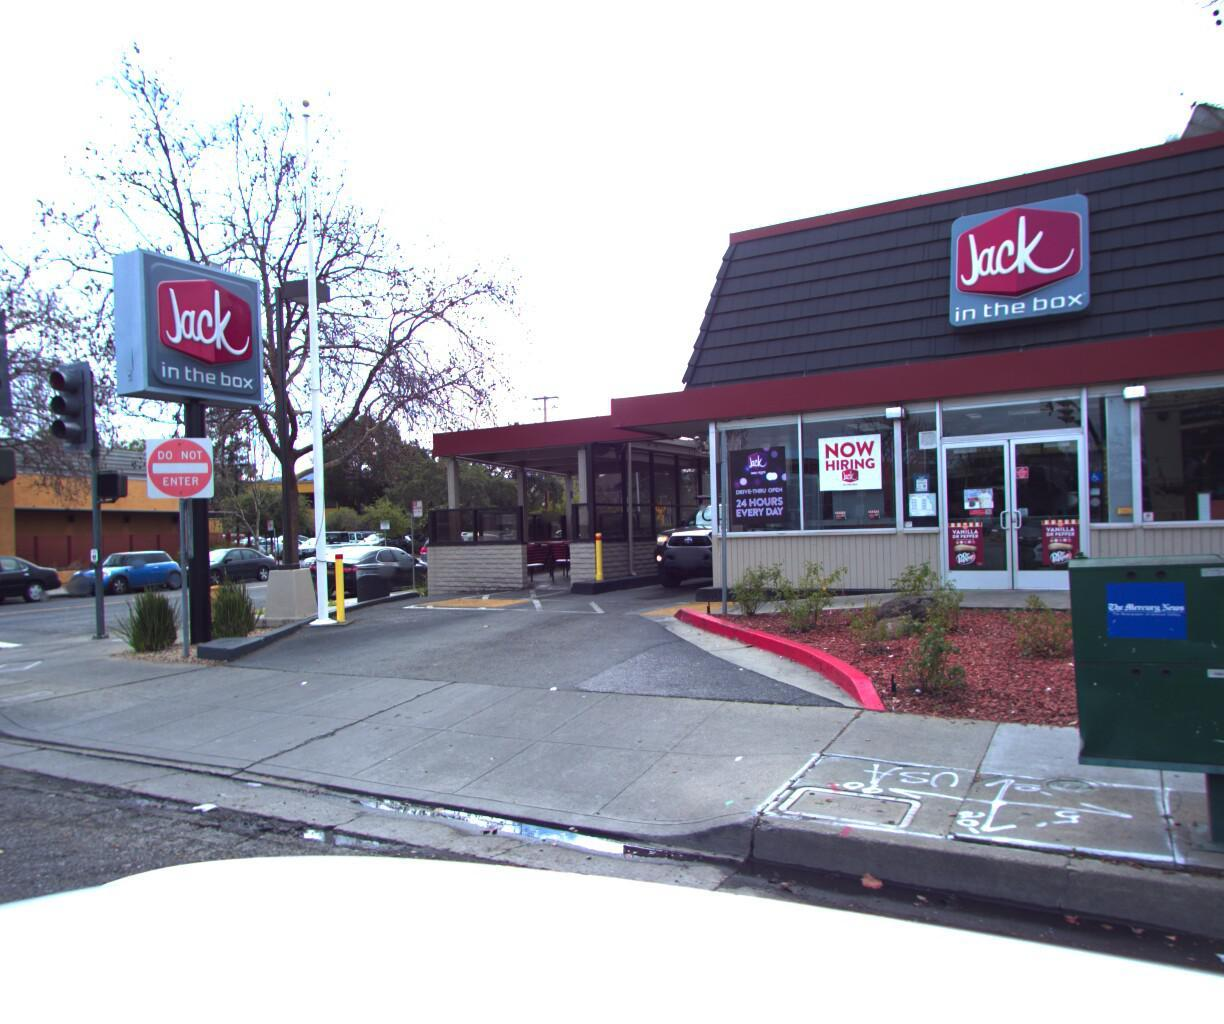car: (636, 485, 819, 591), (294, 534, 445, 599), (54, 543, 190, 596), (413, 522, 524, 581), (157, 538, 284, 586), (0, 546, 69, 614), (293, 535, 371, 573), (315, 524, 381, 554), (353, 527, 411, 554)
